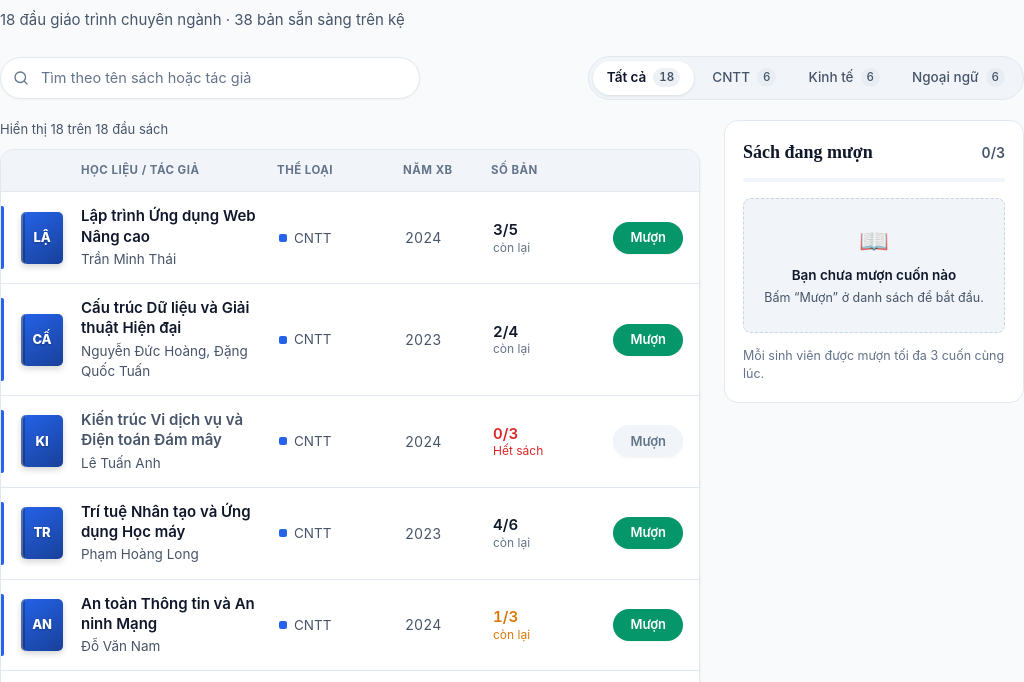
Test case: LibraryPage — luồng mượn/trả › mượn tối đa 3 cuốn, cuốn thứ 4 bị chặn kèm cảnh báo, trả sách thì số bản tăng lại
Click the button with aria-label "Mượn Lập trình Ứng dụng Web Nâng cao" at (648, 238), box [613,222,683,254]
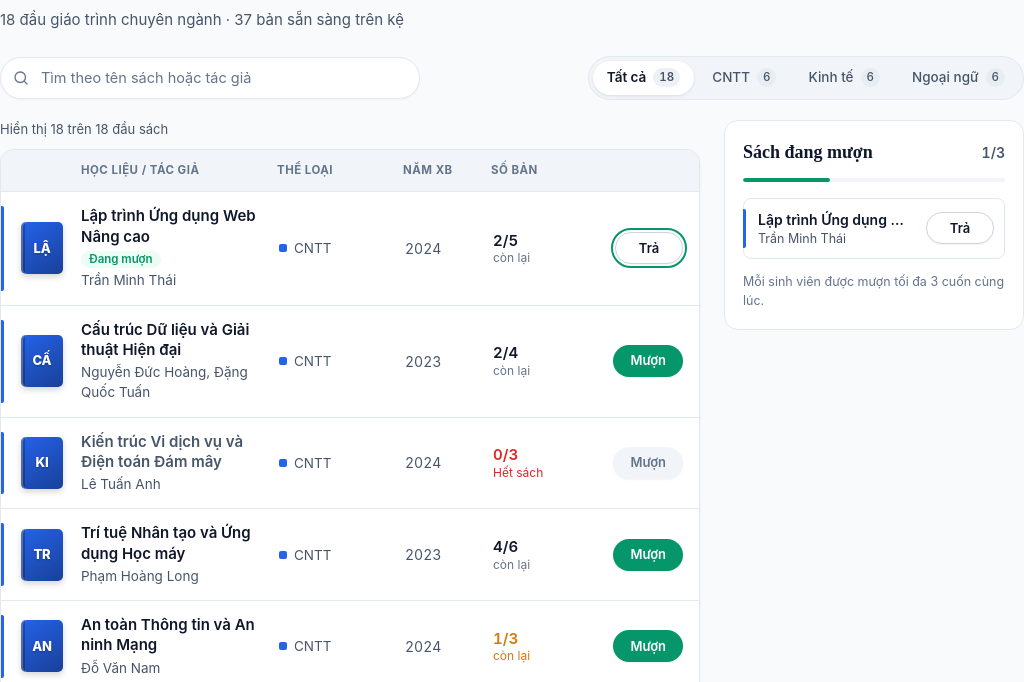
Click the button with aria-label "Mượn An toàn Thông tin và An ninh Mạng" at (648, 646), box [613,630,683,662]
(page scrolled)
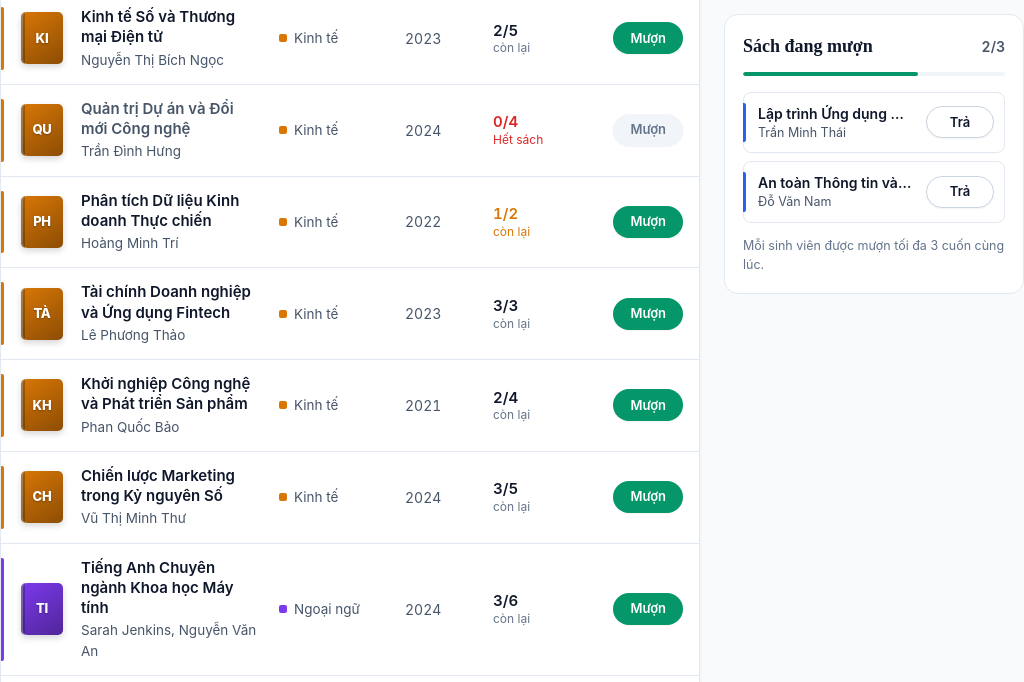
Click the button with aria-label "Mượn Tài chính Doanh nghiệp và Ứng dụng Fintech" at (648, 314), box [613,298,683,330]
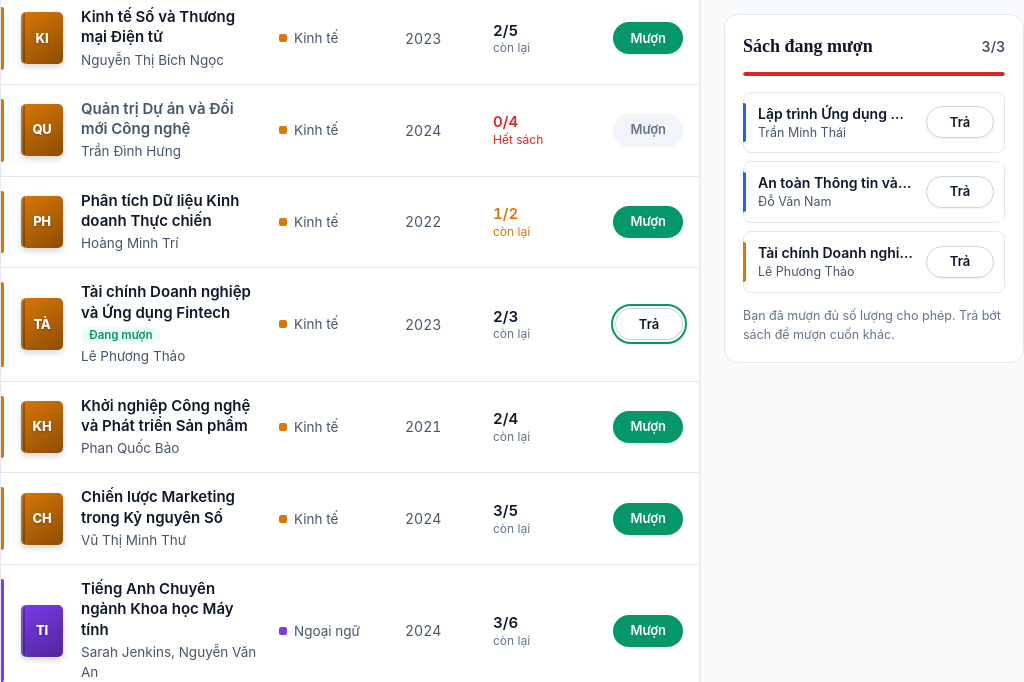
Click the button with aria-label "Mượn Tiếng Anh Chuyên ngành Khoa học Máy tính" at (648, 631), box [613,615,683,647]
(page scrolled)
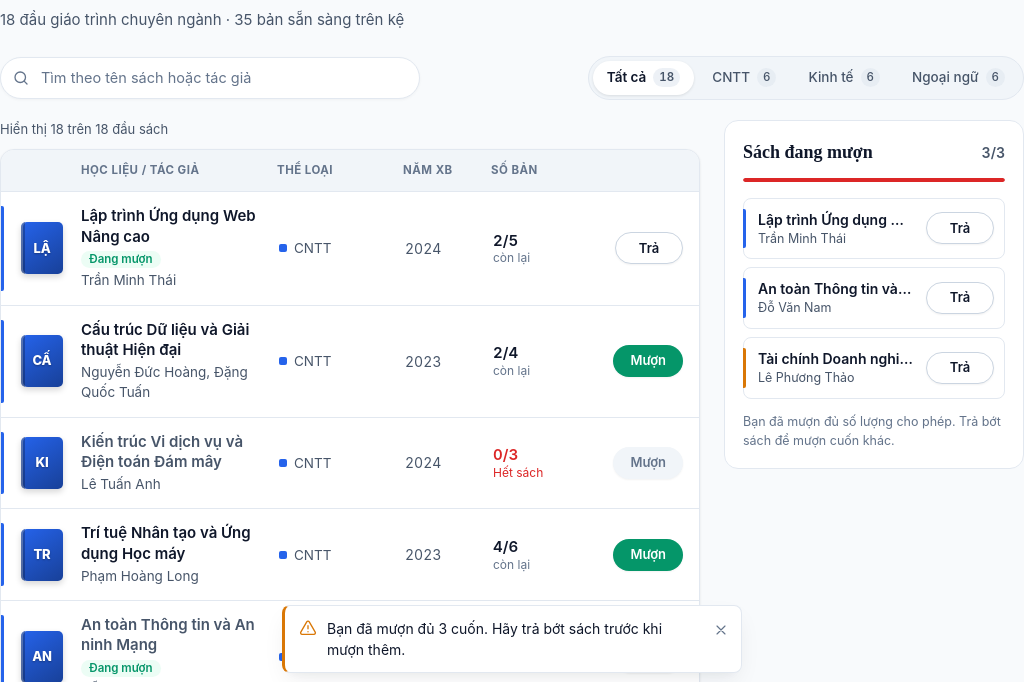
Expected: the text "2/5" is shown, [493,230,518,250]
Click the button with aria-label "Trả Lập trình Ứng dụng Web Nâng cao" at (649, 248), box [615,232,683,264]
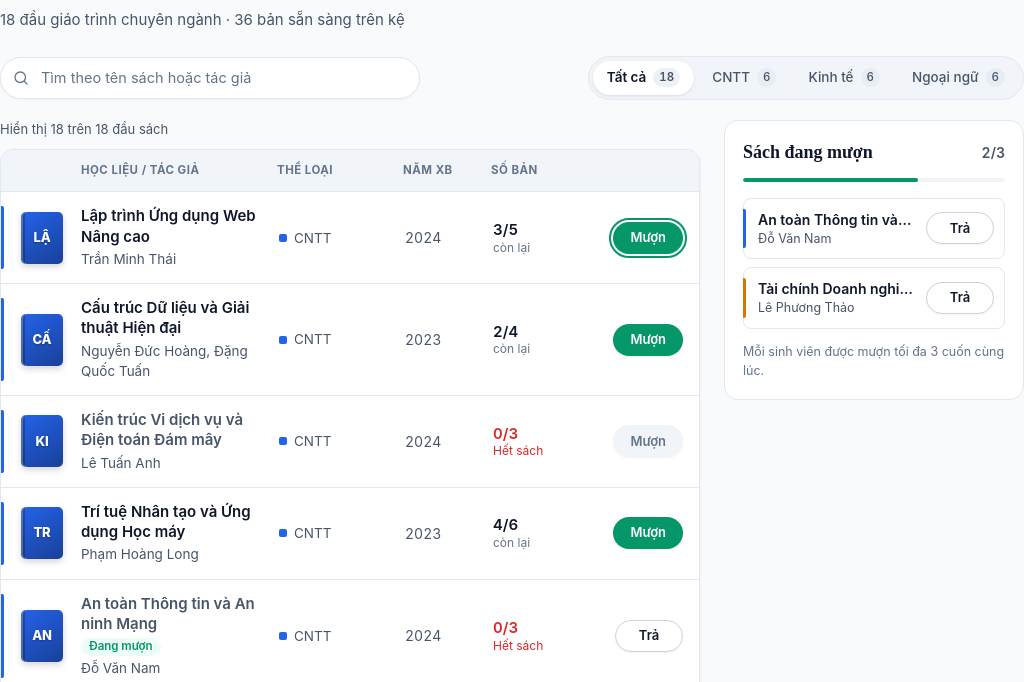
Expected: the text "3/5" is shown, [493,220,518,239]
